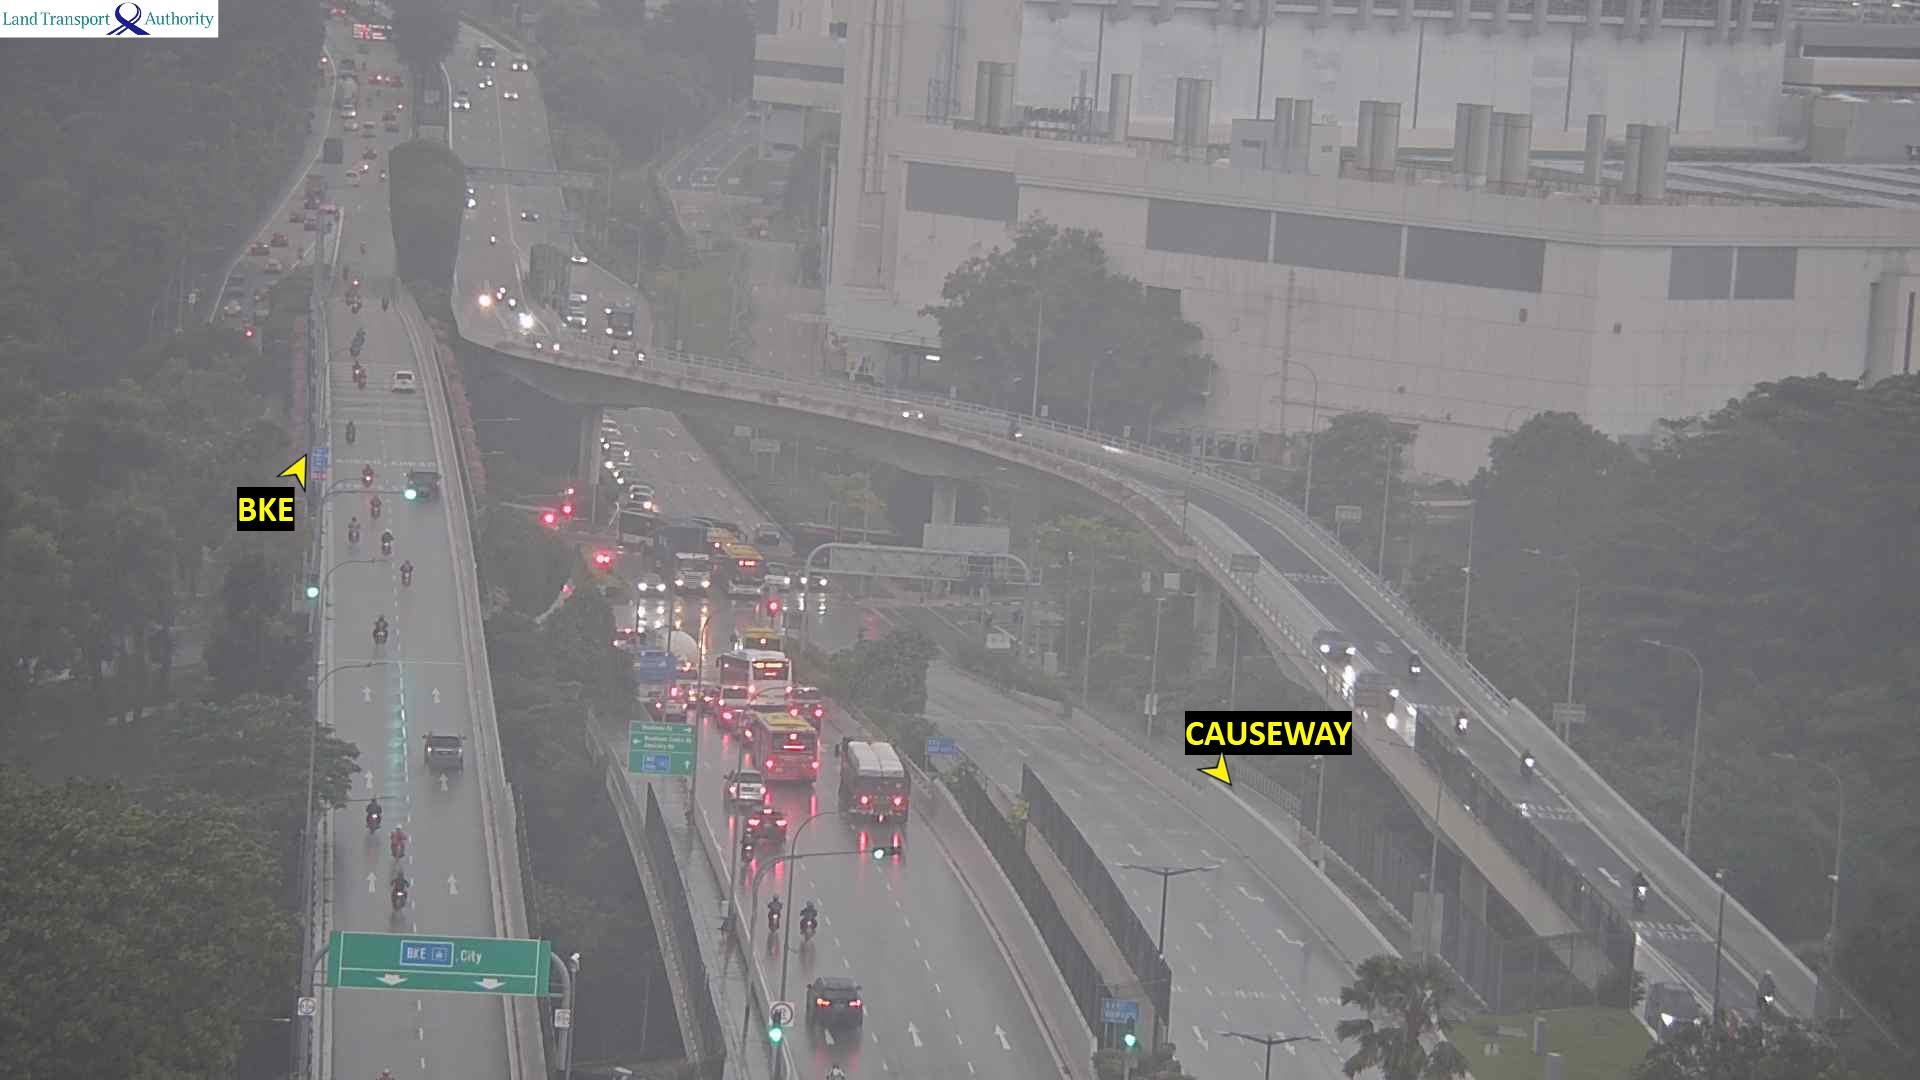vehicle-causeway-johor: (1648, 982, 1697, 1033), (1313, 627, 1356, 663), (1758, 968, 1772, 1008), (892, 409, 928, 424), (1632, 871, 1647, 906), (1455, 709, 1470, 736), (1520, 745, 1533, 775), (1405, 653, 1421, 675), (538, 337, 559, 349), (1017, 424, 1026, 441), (634, 348, 644, 363), (609, 343, 618, 357), (479, 294, 489, 305), (496, 286, 503, 298), (509, 298, 517, 308)
vehicle-causeway-singapore: (749, 717, 818, 774), (816, 978, 861, 1028), (424, 733, 465, 766), (728, 771, 763, 799), (427, 744, 462, 772), (745, 656, 784, 681), (408, 469, 439, 497), (751, 813, 785, 836), (393, 370, 414, 392), (376, 614, 386, 646), (364, 806, 374, 833), (359, 362, 373, 381), (406, 569, 420, 587), (358, 334, 372, 352), (366, 799, 375, 826), (352, 516, 361, 543), (396, 879, 404, 909), (360, 467, 371, 487), (397, 830, 404, 859), (383, 528, 392, 550), (347, 420, 356, 441)
